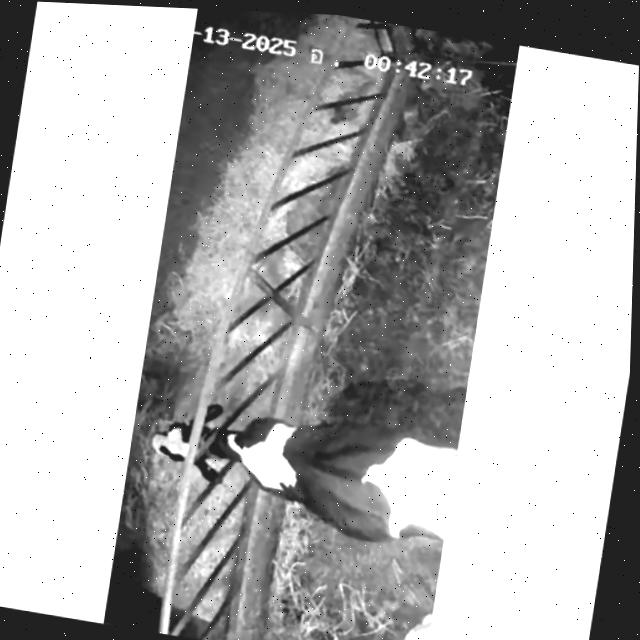eat: (120, 341, 322, 534)
